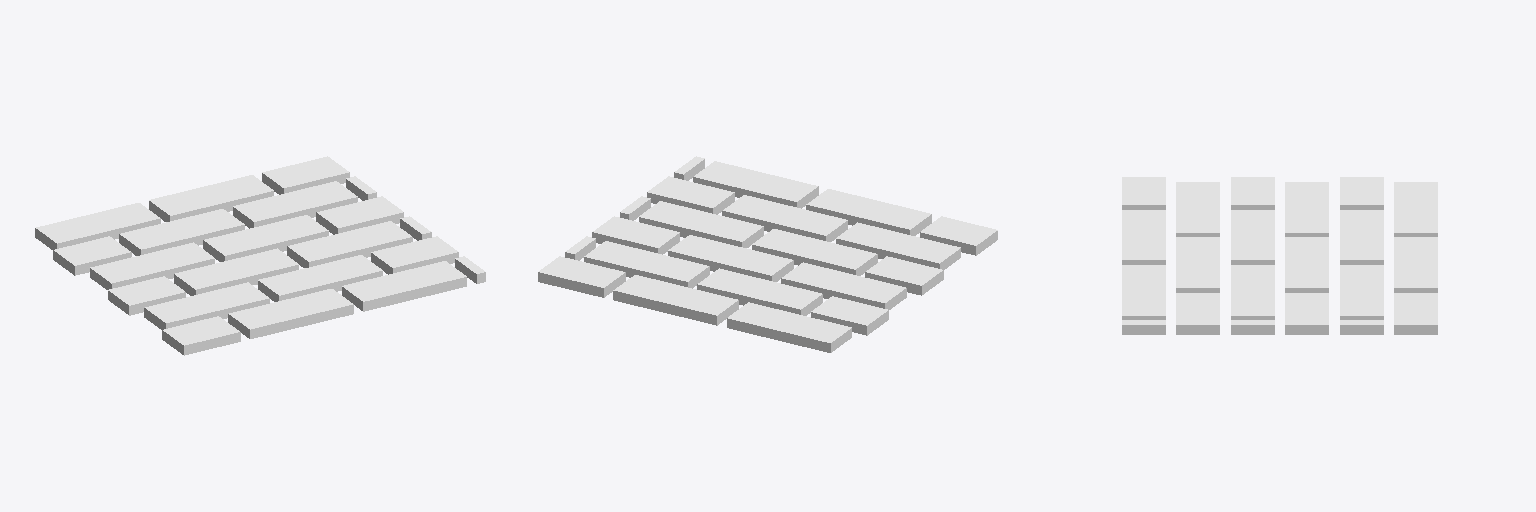
Rendered from chao_de_pedra.obj.
3 renders of one model, left to right at view 1: azimuth 30°, elevation 25°; view 2: azimuth 150°, elevation 25°; view 3: azimuth 270°, elevation 25°, orthographic.
Parts seen in each view (by area): view 1: object 1; view 2: object 1; view 3: object 1.
Boxes of the visible parts, x1,y1,x2,y2 form: object 1: [35, 156, 485, 355]; object 1: [538, 156, 997, 352]; object 1: [1122, 177, 1437, 334].
Bounding box in the file's own units: 3.2 × 0.1 × 2.9.